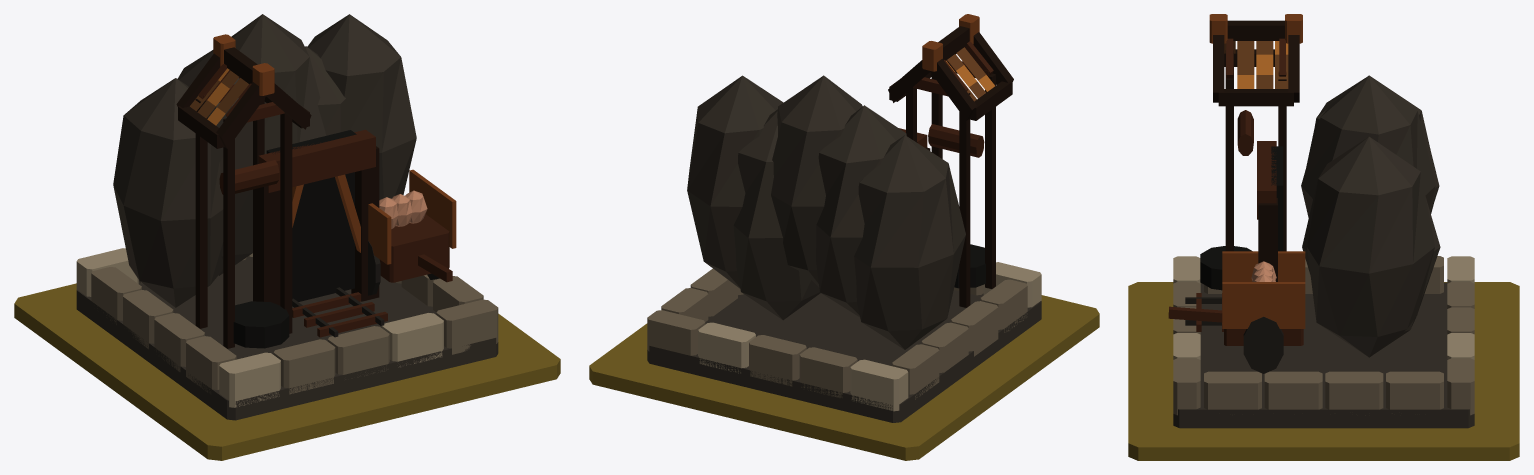
The model's file is deephole_t1.glb.
3 renders of one model, left to right at view 1: azimuth 30°, elevation 25°; view 2: azimuth 150°, elevation 25°; view 3: azimuth 270°, elevation 25°, orthographic. The views are drawn at different scales.
Parts seen in each view (by area): view 1: MMR | deephole | T01 Architecture.001, MMR | deephole | Tier 01 Ground.001; view 2: MMR | deephole | T01 Architecture.001, MMR | deephole | Tier 01 Ground.001; view 3: MMR | deephole | T01 Architecture.001, MMR | deephole | Tier 01 Ground.001.
Boxes of the visible parts, left/top/right/bottom form: MMR | deephole | T01 Architecture.001: left=76, top=14, right=498, bottom=420; MMR | deephole | Tier 01 Ground.001: left=14, top=283, right=560, bottom=460; MMR | deephole | T01 Architecture.001: left=647, top=14, right=1041, bottom=422; MMR | deephole | Tier 01 Ground.001: left=589, top=295, right=1099, bottom=460; MMR | deephole | T01 Architecture.001: left=1168, top=14, right=1474, bottom=428; MMR | deephole | Tier 01 Ground.001: left=1128, top=282, right=1519, bottom=460.
Size of the model in its own units: 1.3 by 1.19 by 1.3.
1 material, 1 textured.
